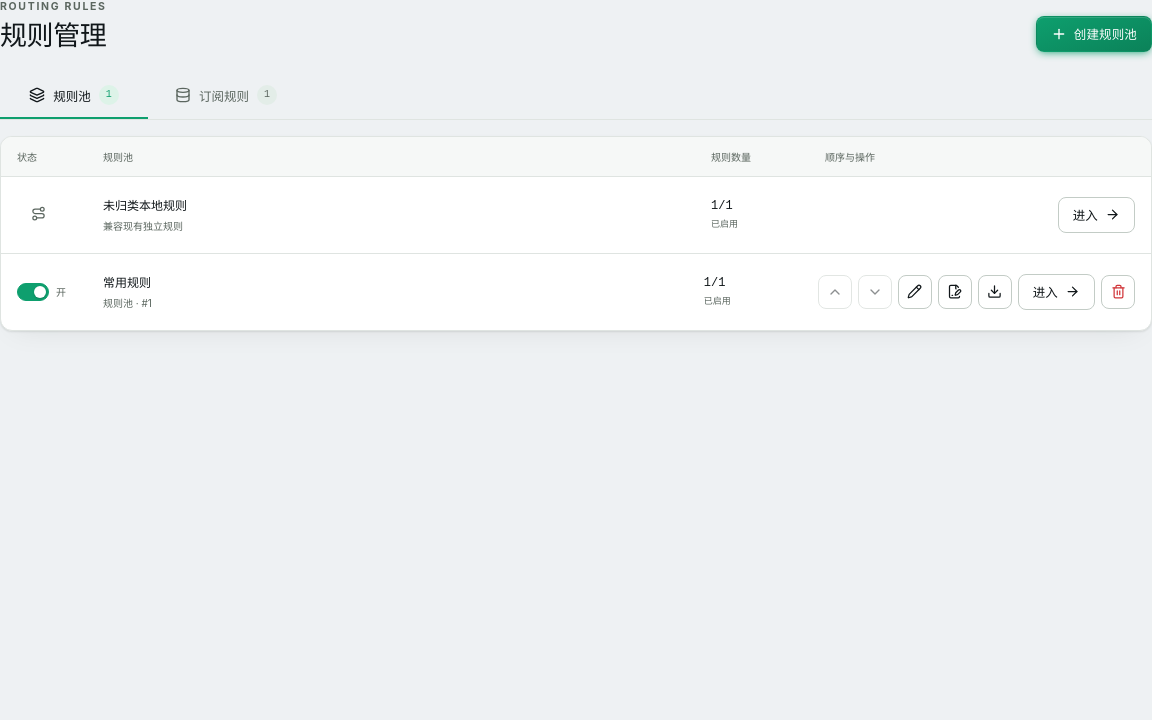
Test: RulesView › enters a rule pool subview and saves a member through the pool API
This screenshot has width=1152, height=720.
Click the button "进入" in the row of "常用规则". click: [1056, 292]
box: top-left (1018, 274), bottom-right (1095, 310)
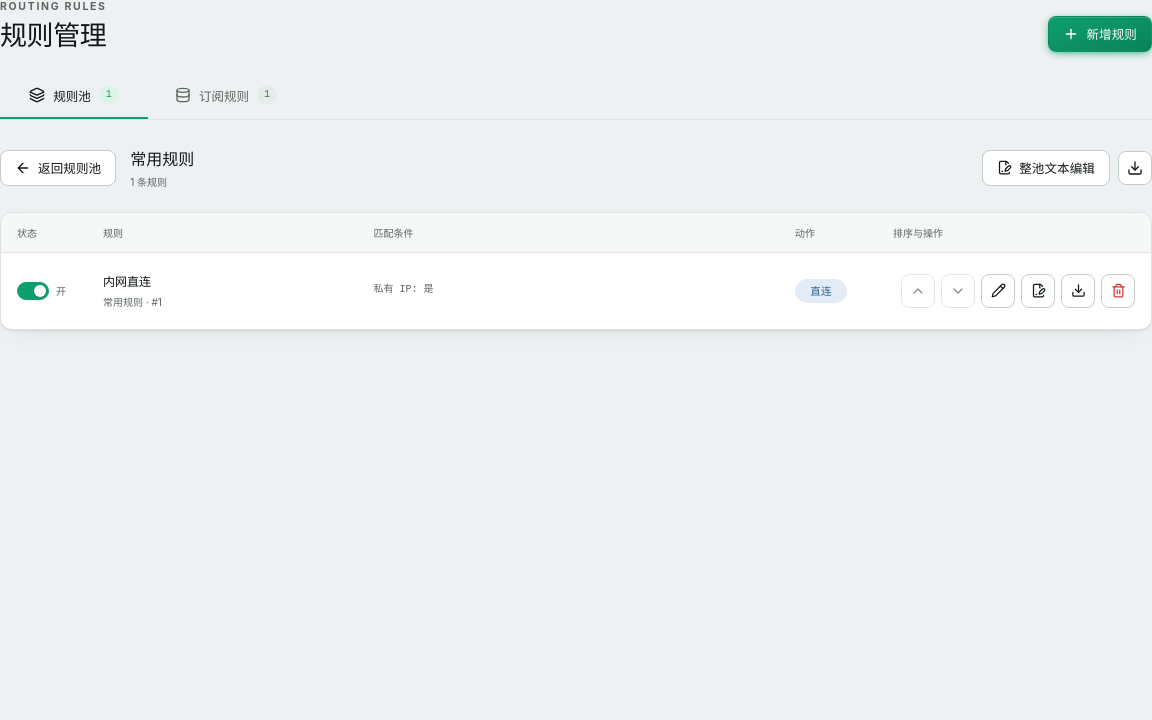
Expected: the button "返回规则池" is shown, top-left (0, 150), bottom-right (116, 186)
Expected: the text "内网直连" is shown, top-left (103, 274), bottom-right (151, 289)
Click the button named "编辑 内网直连". click: [998, 290]
box: top-left (981, 274), bottom-right (1015, 308)
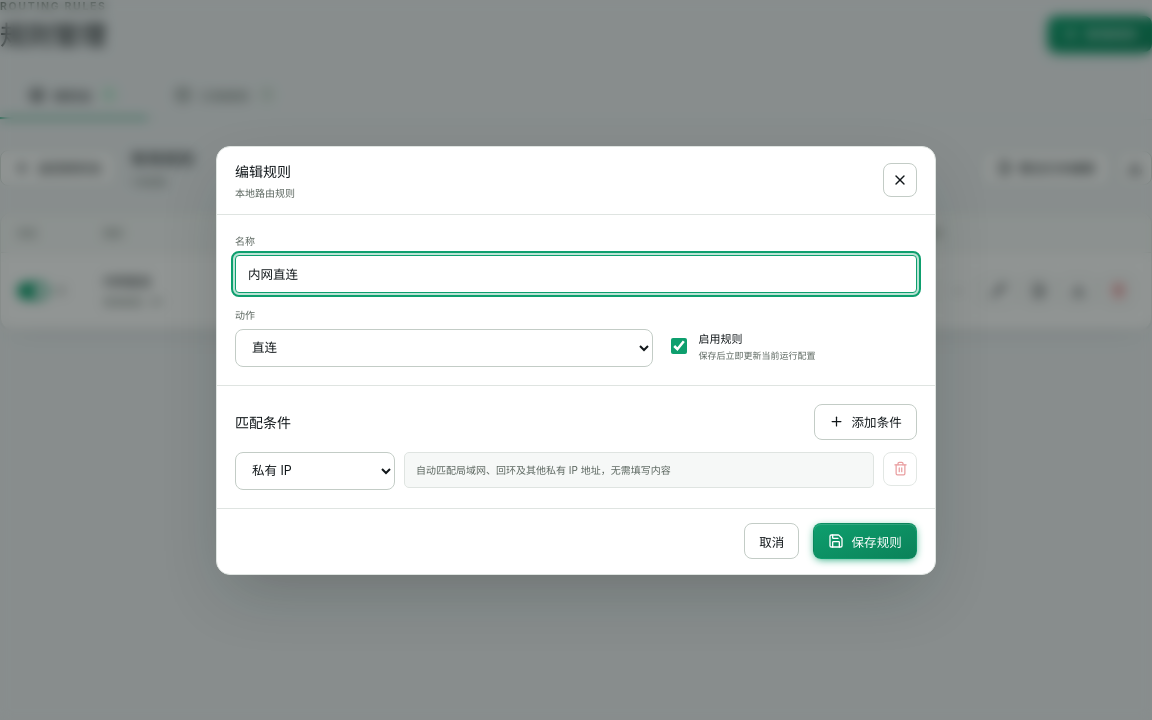
Replace the text in the field labelled "名称" with "局域网直连". click: [576, 274]
box: top-left (235, 254), bottom-right (917, 292)
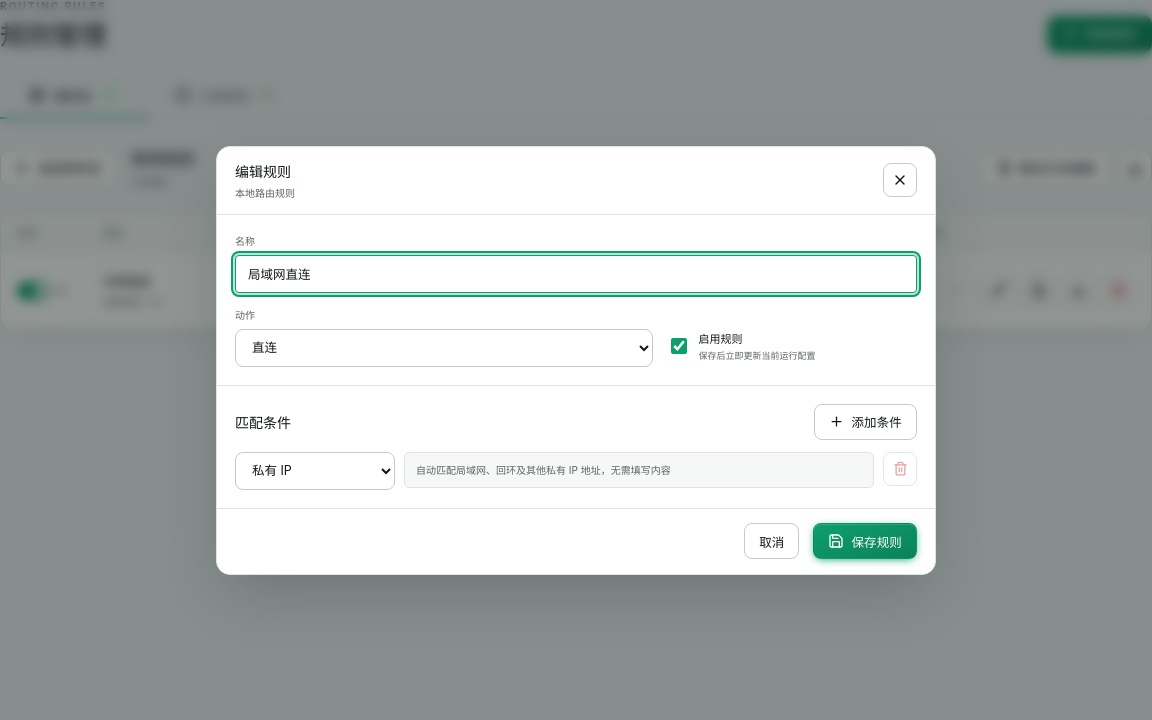
Click the button "保存规则". click: [865, 541]
box: top-left (814, 523), bottom-right (917, 559)
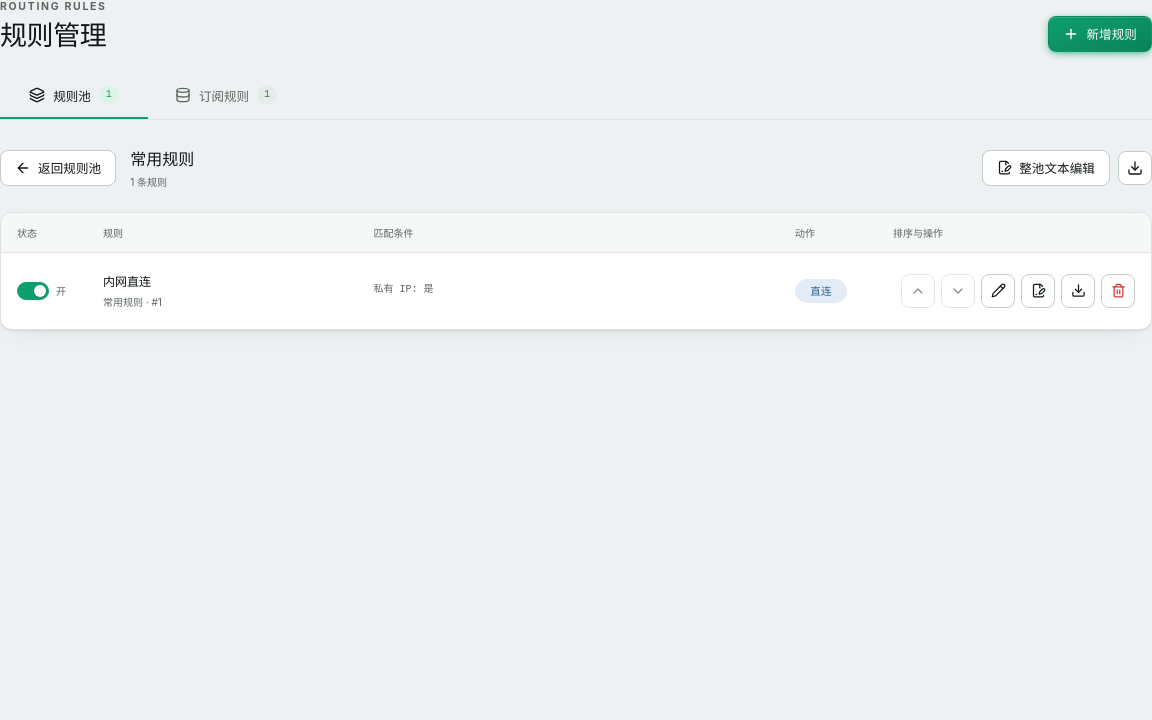
Click the button "返回规则池". click: [58, 168]
box: top-left (0, 150), bottom-right (116, 186)
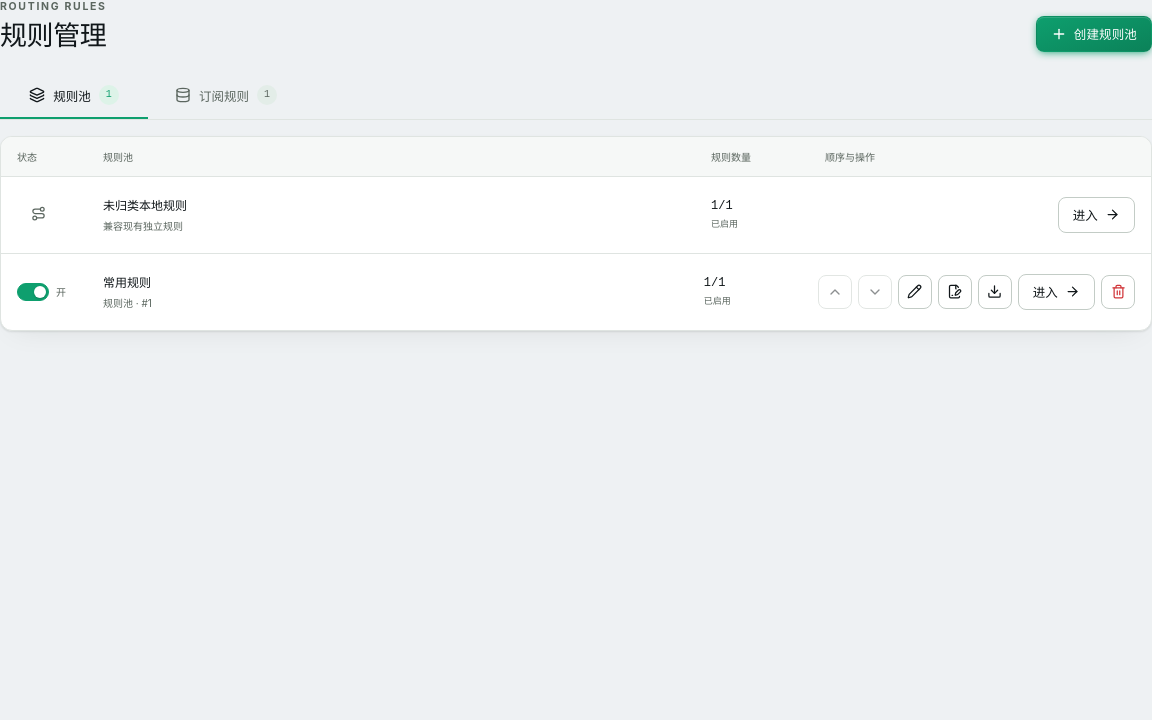
Expected: the button "创建规则池" is shown, top-left (1036, 16), bottom-right (1151, 52)
